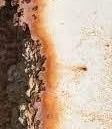Corrosion: (1, 1, 59, 129), (71, 65, 87, 72)
